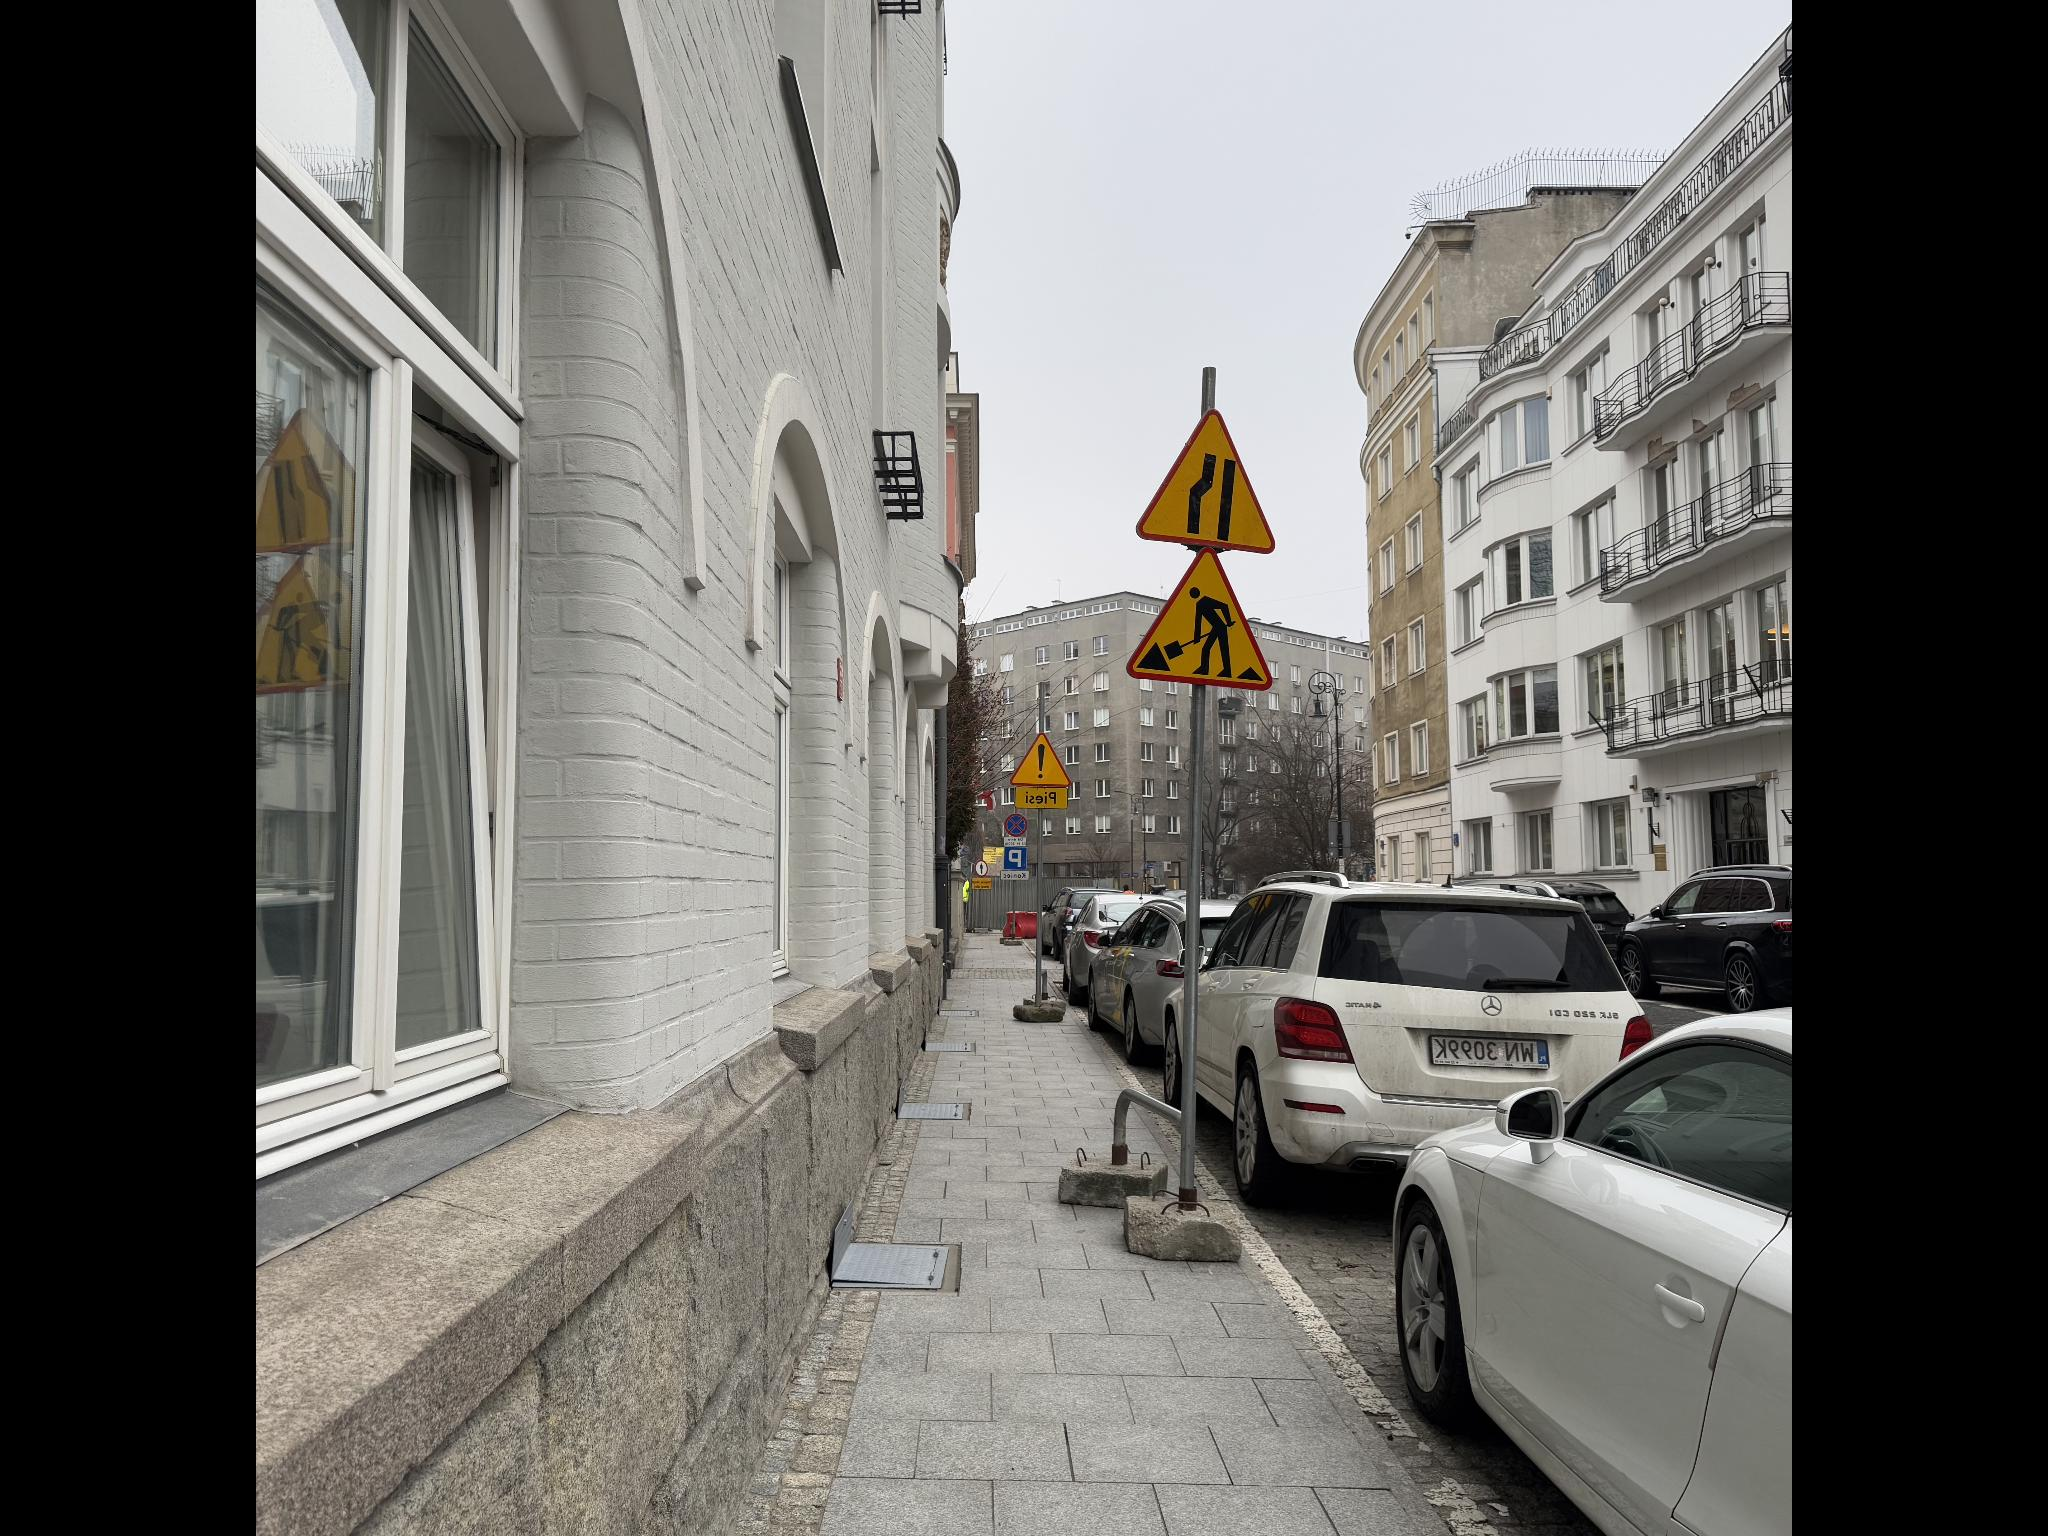information: (1358, 508, 1380, 532)
other: (1297, 470, 1321, 523), (1382, 508, 1392, 537), (1348, 510, 1358, 532)
prohibitory: (1324, 508, 1348, 531), (1371, 549, 1388, 561)
warning: (1056, 261, 1203, 411), (919, 258, 1066, 402), (1243, 465, 1298, 526)
